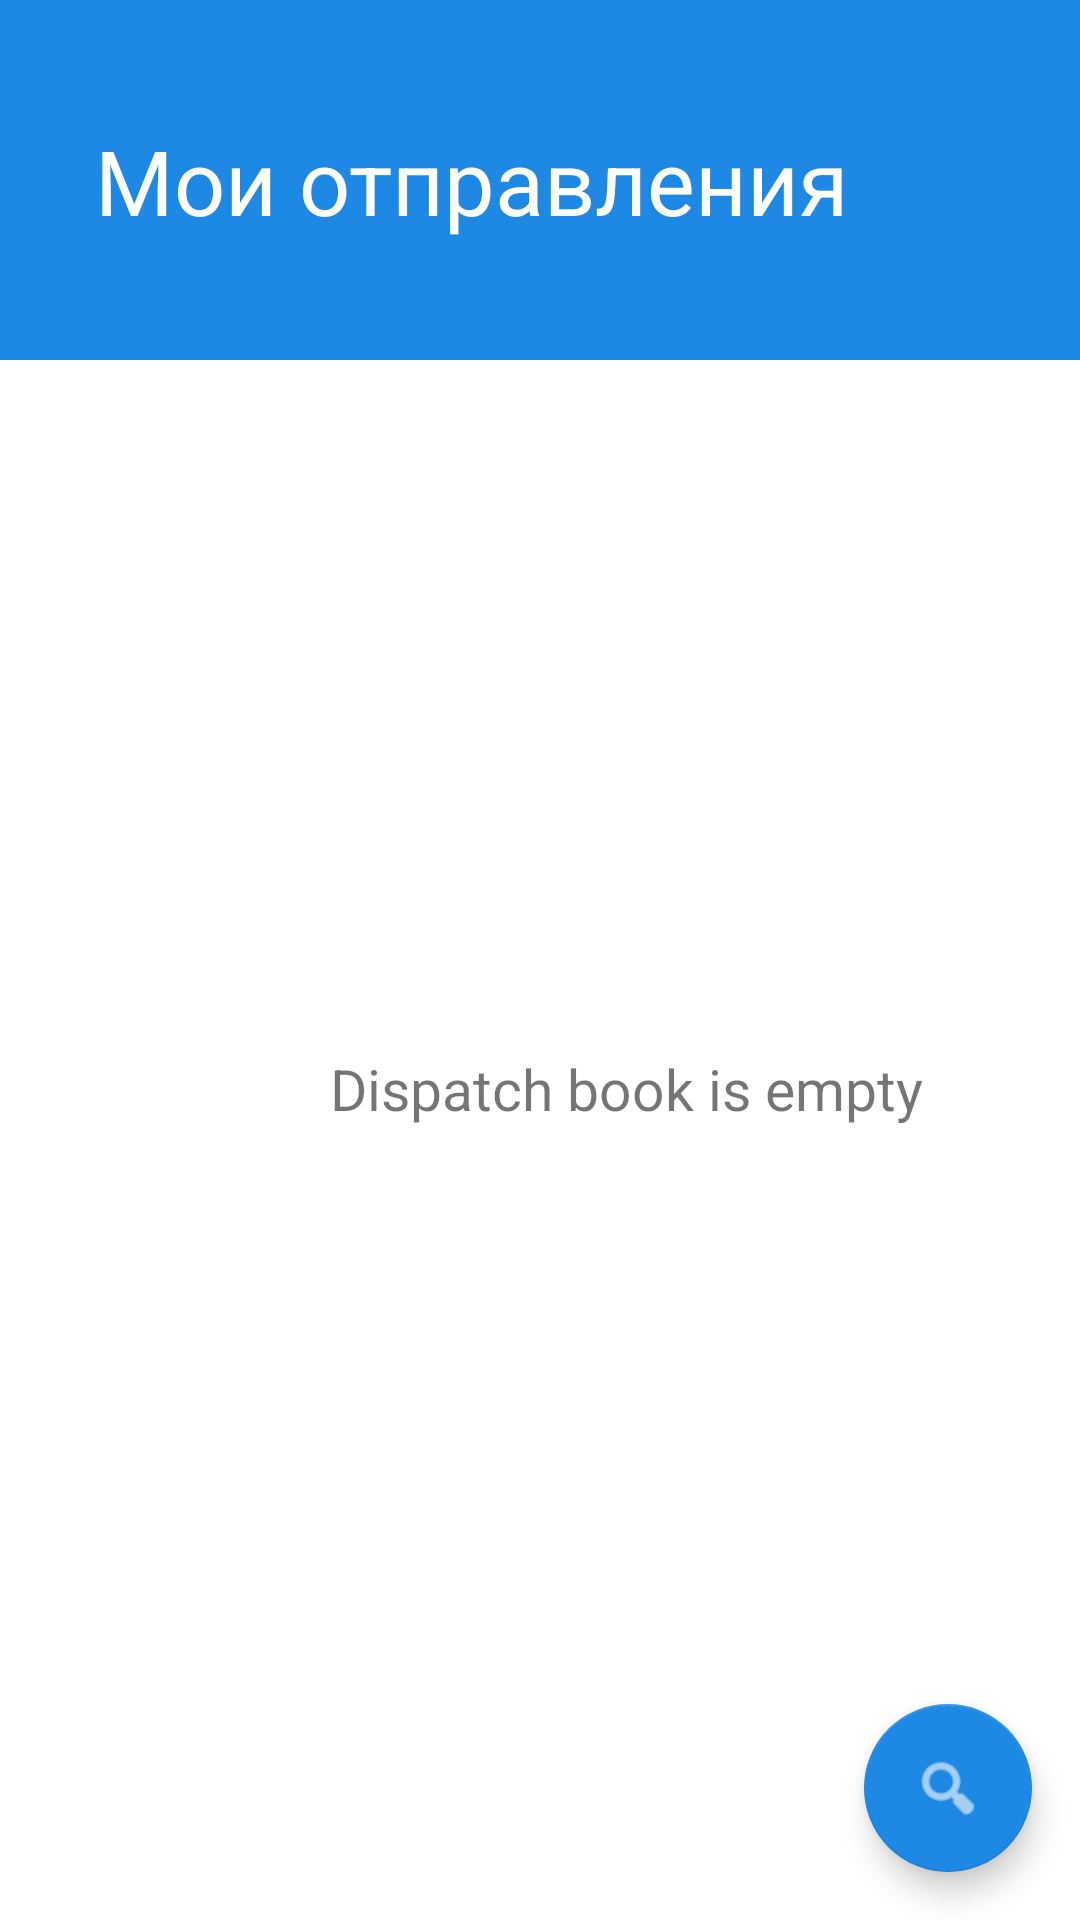

Icon bounding boxes for this 1080px x 1920px phone screenshot, format (x1, y1, x2, y2):
search: (864, 1704, 1032, 1872)
